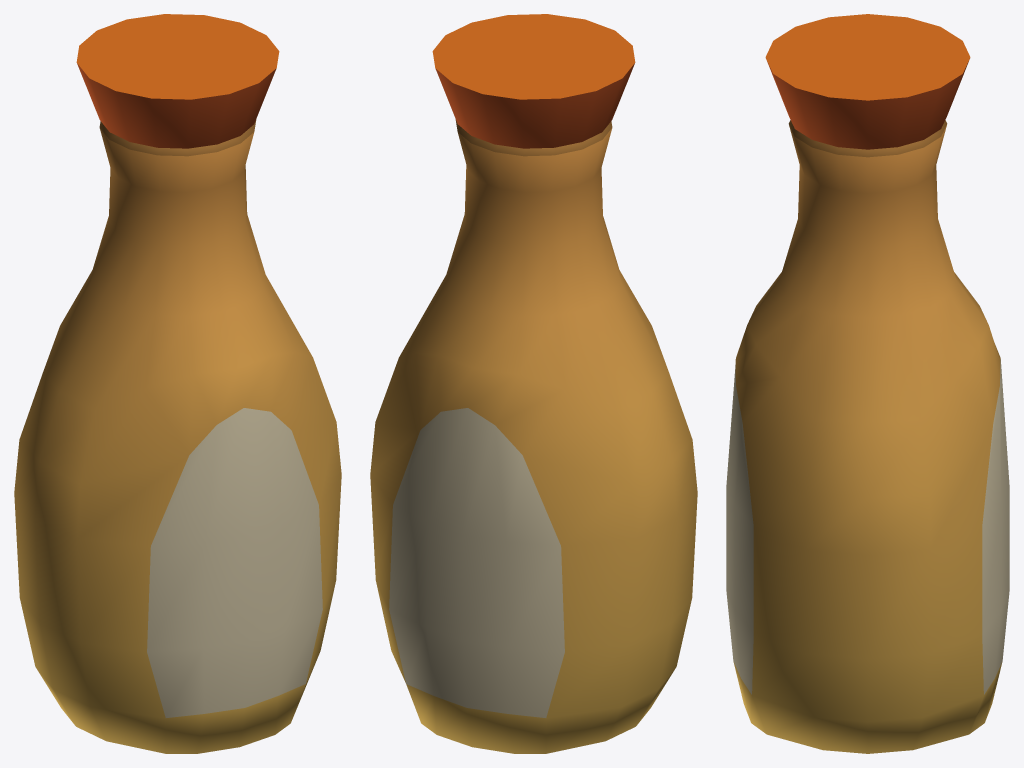
3 views of the same model, side by side, from view 1: azimuth 30°, elevation 25°; view 2: azimuth 150°, elevation 25°; view 3: azimuth 270°, elevation 25° (orthographic).
Visible parts, largest first — view 1: OrangeJuice; view 2: OrangeJuice; view 3: OrangeJuice.
Part boxes in pixels (x1,y1,x2,y2): OrangeJuice: (14, 14, 341, 753); OrangeJuice: (370, 14, 697, 753); OrangeJuice: (726, 14, 1009, 753).
Bounding box in the file's own units: 0.232 × 0.5 × 0.1984.
